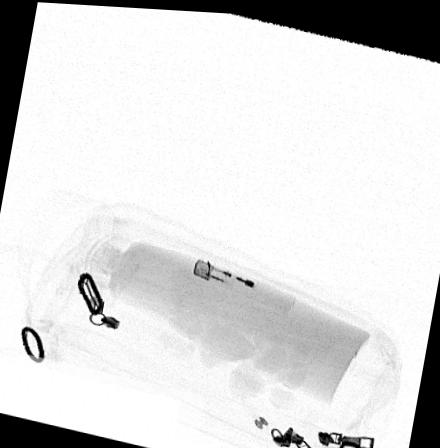Lighter: (192, 250, 295, 310)
